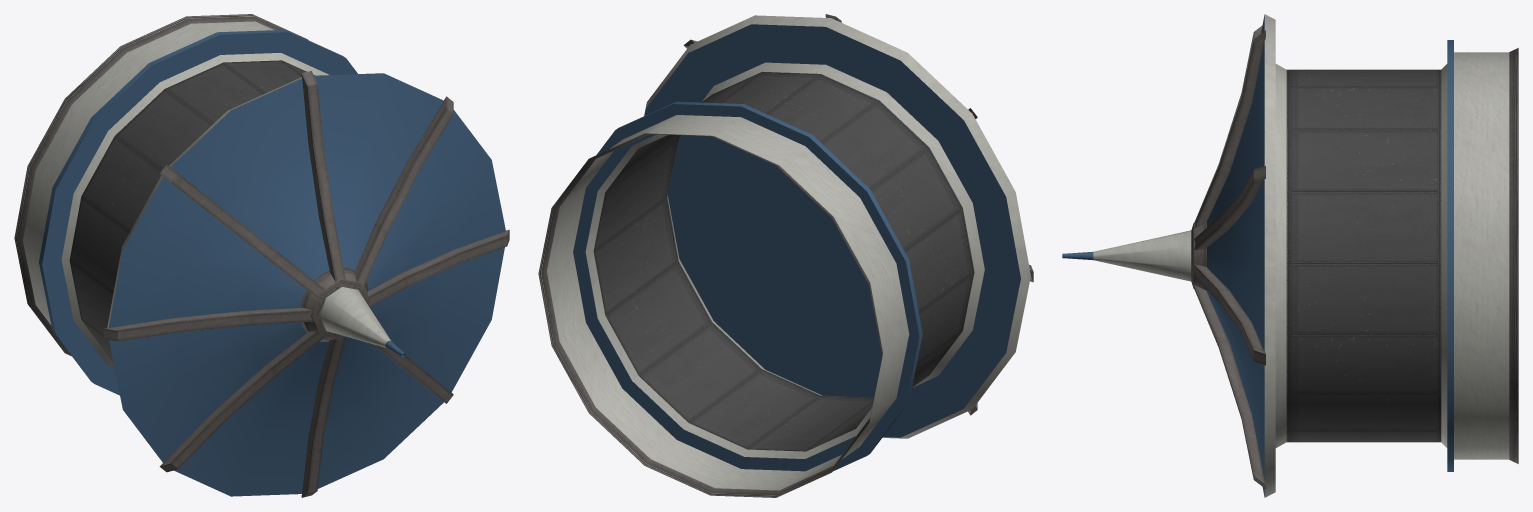
Rendered from nt_2020_vista_kiosk_blue_LOD0.obj.
3 views of the same model, side by side, from view 1: azimuth 30°, elevation 25°; view 2: azimuth 150°, elevation 25°; view 3: azimuth 270°, elevation 25° (orthographic). The views are drawn at different scales.
Parts seen in each view (by area): view 1: nt_2020_plastic_blue, metal_trim_black_clean, facade_glass_window_01_gray, plaster_whitewall_01; view 2: nt_2020_plastic_blue, facade_glass_window_01_gray, plaster_whitewall_01, metal_trim_black_clean; view 3: facade_glass_window_01_gray, plaster_whitewall_01, nt_2020_plastic_blue, metal_trim_black_clean.
Part boxes in pixels (bbox=[...]): nt_2020_plastic_blue: bbox=[39, 29, 505, 496]; metal_trim_black_clean: bbox=[14, 14, 509, 497]; facade_glass_window_01_gray: bbox=[69, 60, 314, 361]; plaster_whitewall_01: bbox=[23, 21, 390, 368]; nt_2020_plastic_blue: bbox=[573, 24, 1020, 471]; facade_glass_window_01_gray: bbox=[593, 72, 974, 451]; plaster_whitewall_01: bbox=[547, 15, 1030, 490]; metal_trim_black_clean: bbox=[538, 14, 1033, 497]; facade_glass_window_01_gray: bbox=[1286, 69, 1441, 442]; plaster_whitewall_01: bbox=[1093, 14, 1509, 497]; nt_2020_plastic_blue: bbox=[1062, 15, 1453, 496]; metal_trim_black_clean: bbox=[1191, 25, 1518, 488].
Size of the model in its own units: 740 by 740 by 686.
